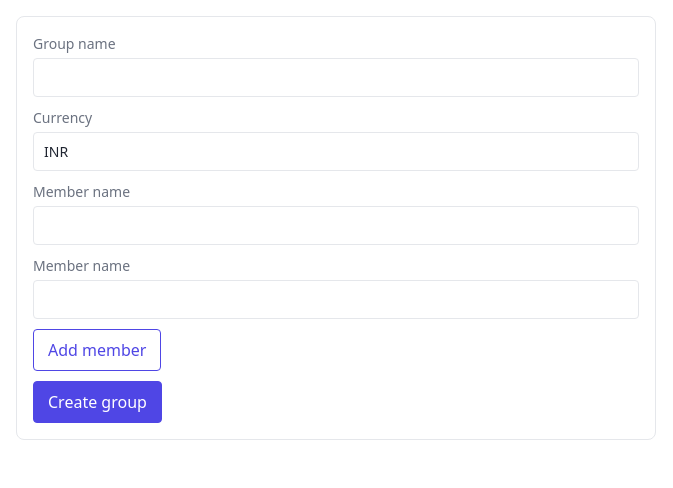
CreateGroupForm › shows a validation message and does not call the API when a member name is blank
The image size is (673, 488).
In the field labelled "Group name": x=336, y=78 x1=33 y1=58 x2=639 y2=97, type "Goa trip"
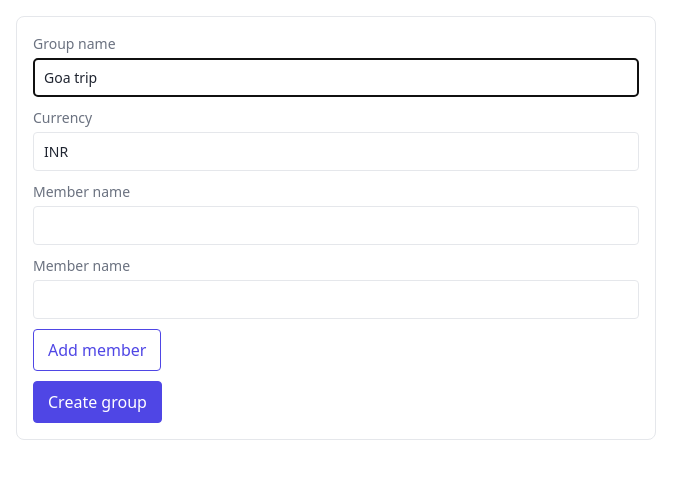
In the 1st field labelled "Member name": x=336, y=226 x1=33 y1=206 x2=639 y2=245, type "Alice"
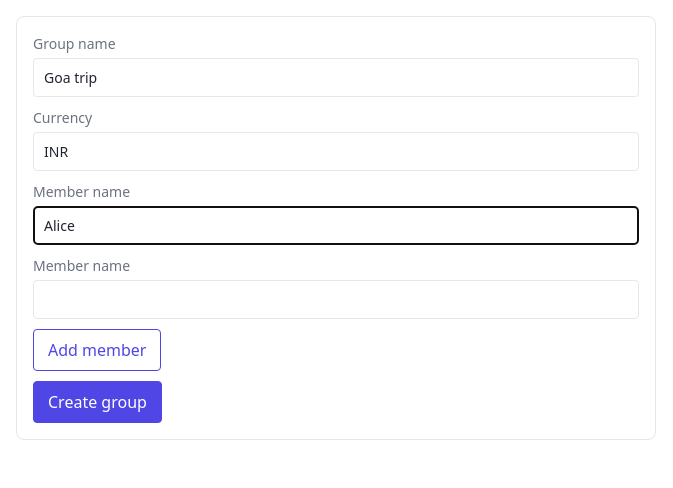
Click the button "Create group": x=97, y=402 x1=33 y1=381 x2=162 y2=423
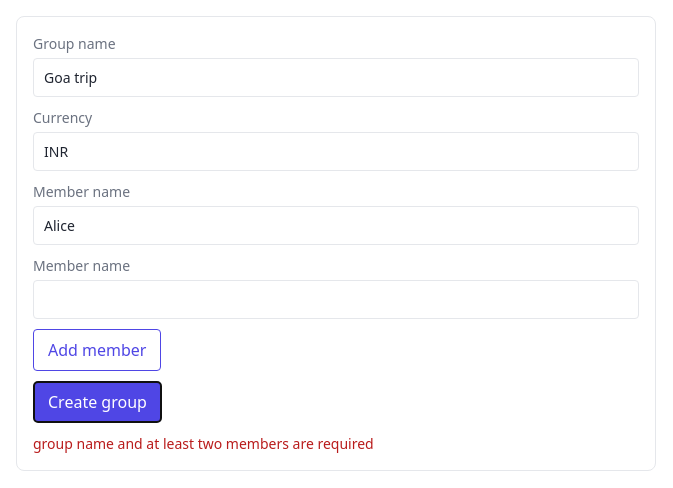
Check: the text "group name and at least two members are required" is shown, box x1=33 y1=434 x2=374 y2=453
